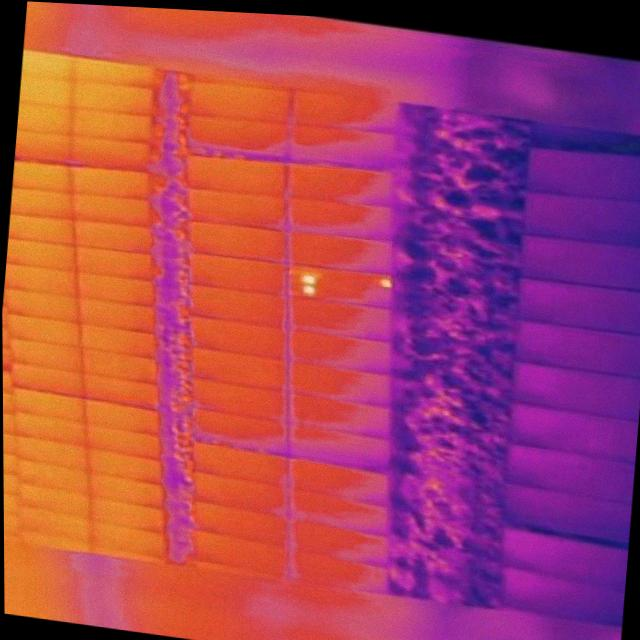Hotspot: (281, 260, 400, 315)
Normal: (280, 325, 403, 382), (281, 192, 400, 247), (185, 342, 295, 396)
Shadow: (493, 518, 629, 592), (497, 478, 632, 551), (503, 394, 639, 465), (511, 268, 640, 340), (493, 560, 626, 629), (509, 313, 640, 382), (515, 185, 640, 255), (500, 440, 635, 504), (512, 230, 640, 296), (523, 143, 640, 209)
